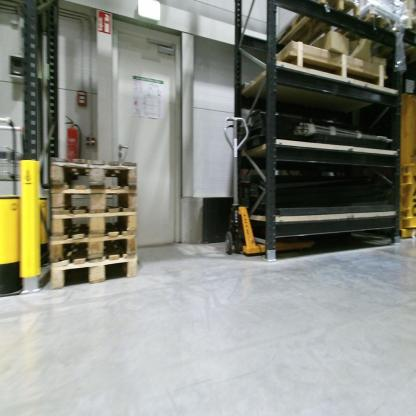pallet: (270, 2, 362, 52), (324, 10, 403, 60), (45, 149, 137, 190), (46, 254, 141, 291), (50, 232, 139, 269), (50, 186, 139, 216), (50, 207, 136, 238), (389, 18, 415, 62)
pallet_truck: (219, 108, 305, 254)
